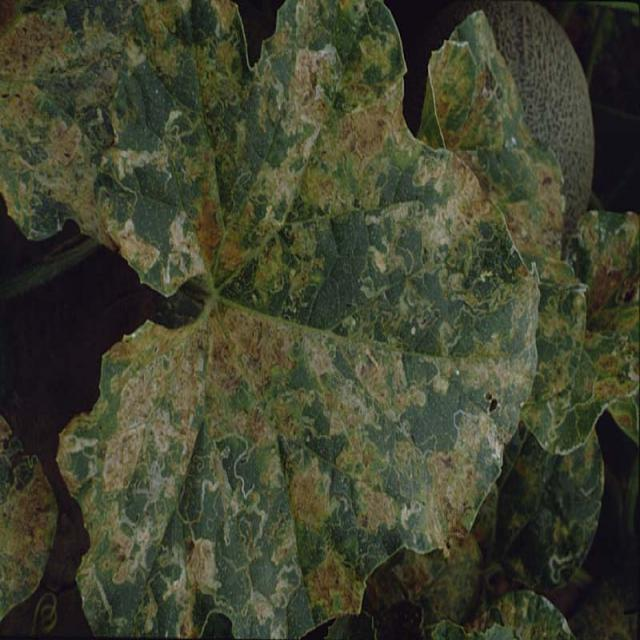Serpentine leafminer: (1, 0, 539, 640), (427, 10, 640, 453), (321, 416, 608, 640), (0, 419, 59, 625), (431, 593, 585, 640)
